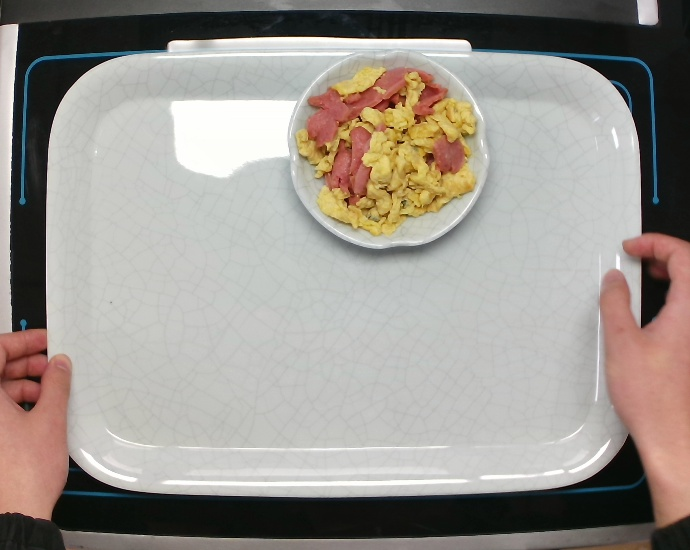JYsf-Ao_Yuan_Wan: (278, 47, 495, 265)
